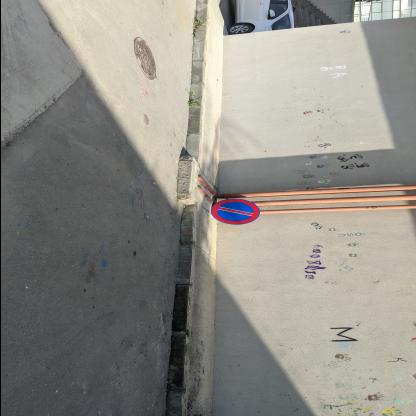No Waiting: (213, 201, 261, 226)
